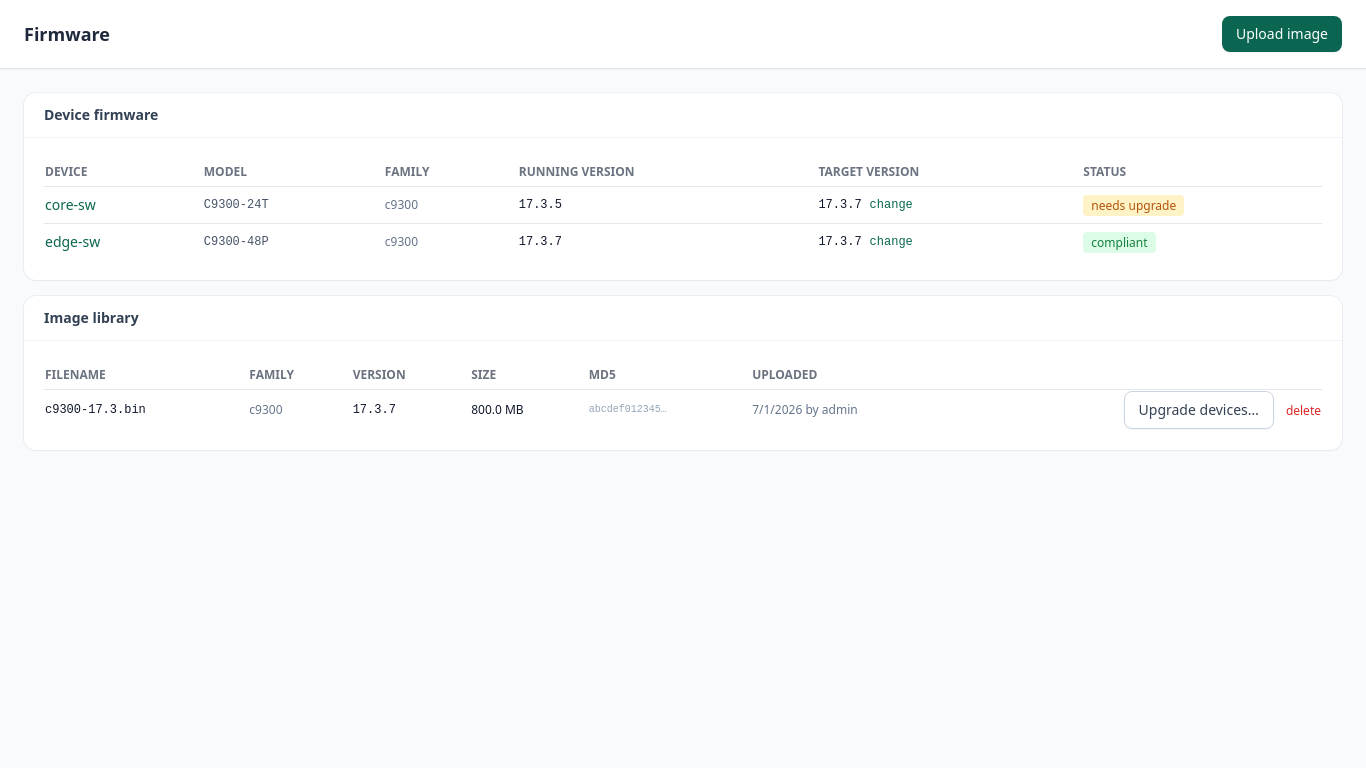
Test: Firmware page › upload modal validates that file, family, and version are required
Click the button "Upload image" at (1282,34), box [1222,16,1342,52]
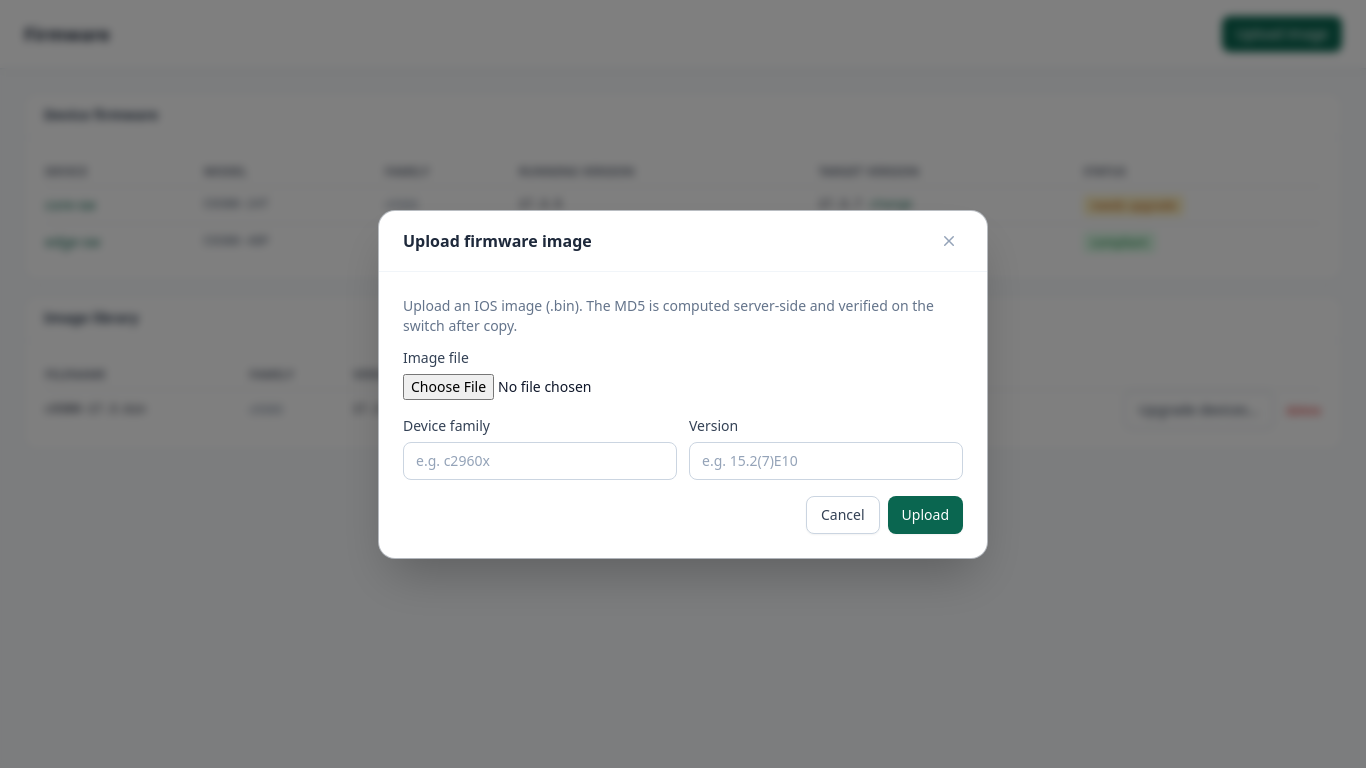
Click the button "Upload" at (925,514), box [888,496,963,534]
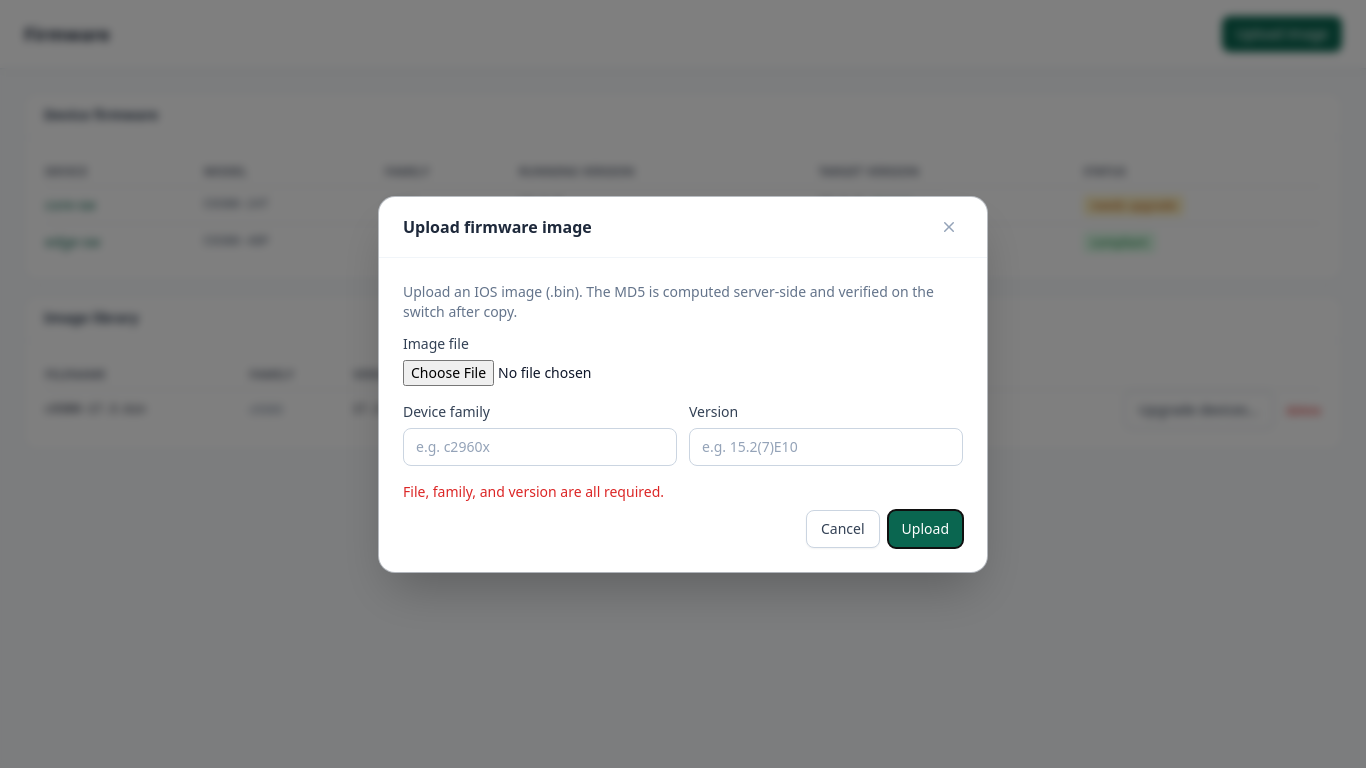
Result: the text "File, family, and version are all required." is shown at [403,482,664,500]
